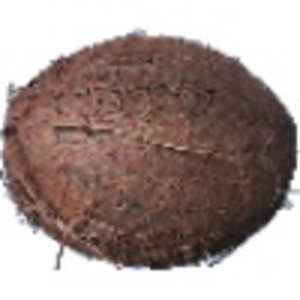coco: (1, 27, 300, 272)
